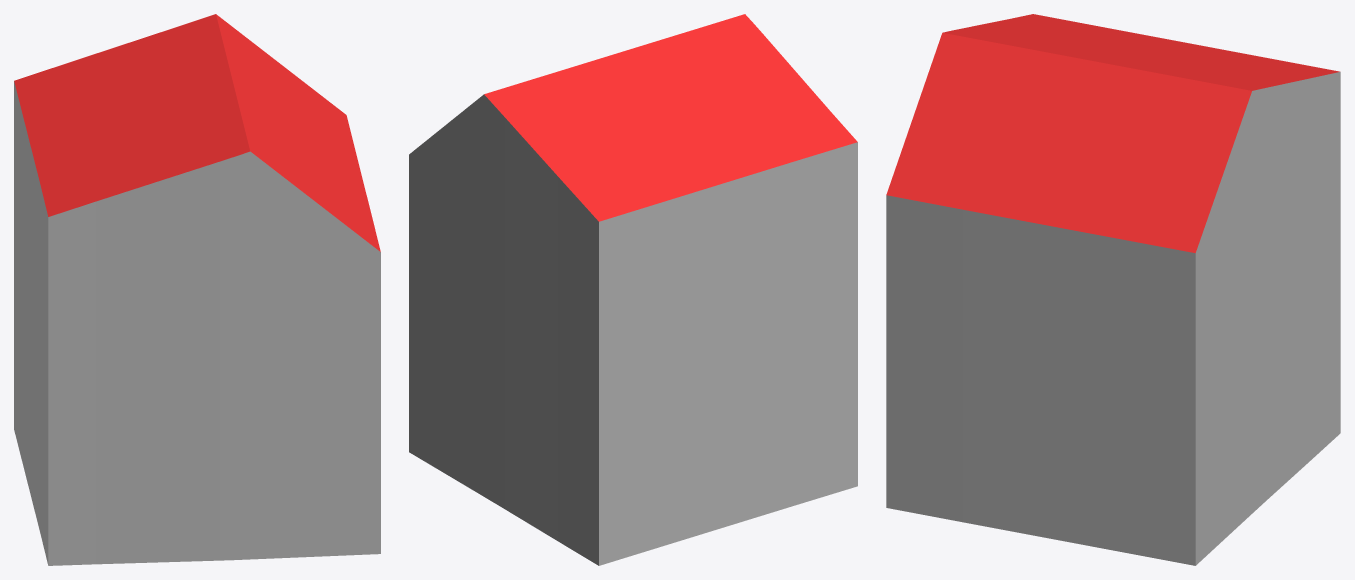
Rendered from DEBY_LOD2_4907159.dae.
The picture shows the model from 3 angles, left to right: view 1: azimuth 30°, elevation 25°; view 2: azimuth 150°, elevation 25°; view 3: azimuth 270°, elevation 25°; orthographic projection. The views are drawn at different scales.
Bounding box in the file's own units: 19.01 × 19.17 × 19.68.
